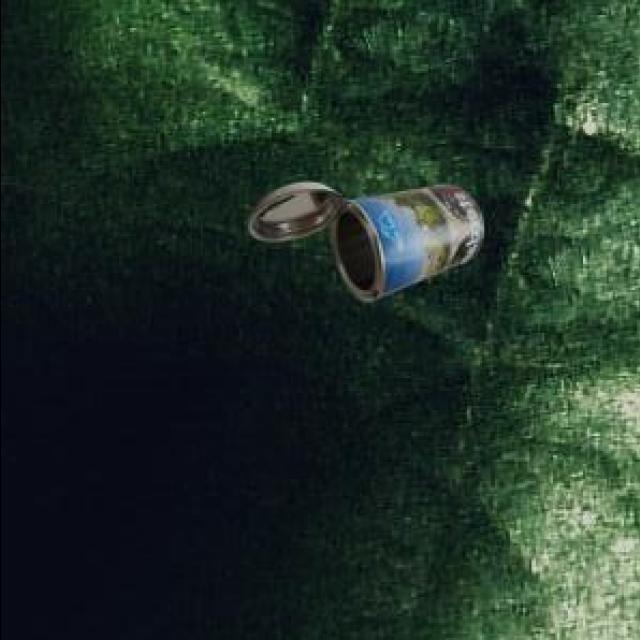logam: (244, 179, 478, 300)
